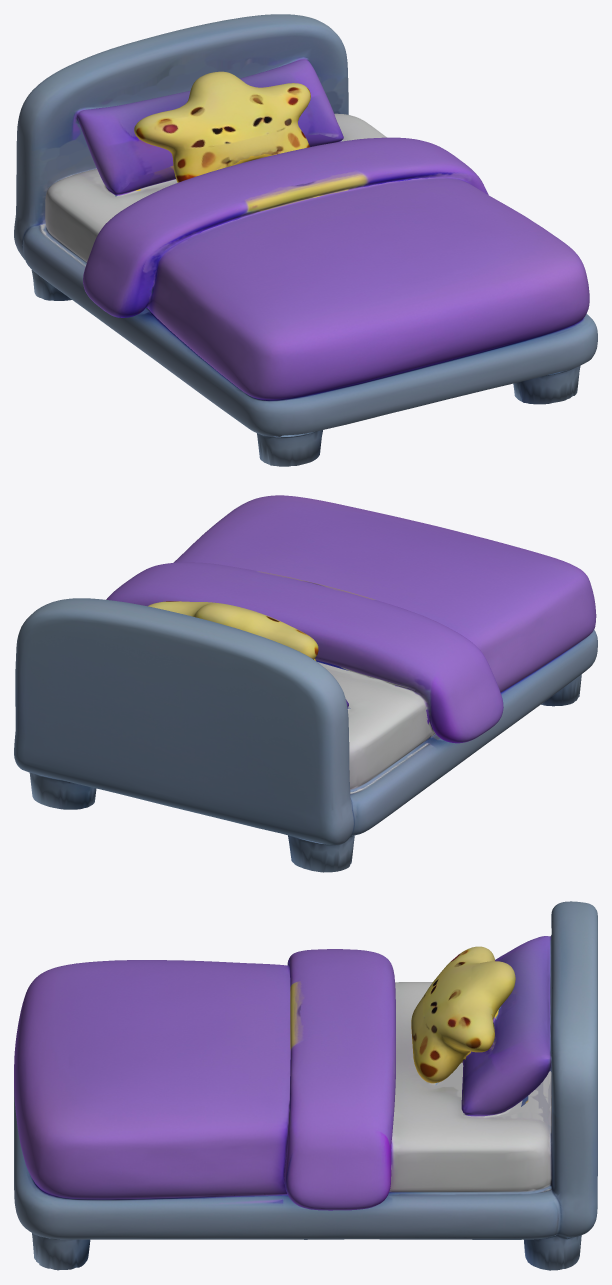
File: bed.glb
The picture shows the model from 3 angles, top to bottom: view 1: azimuth 30°, elevation 25°; view 2: azimuth 150°, elevation 25°; view 3: azimuth 270°, elevation 25°; orthographic projection. The views are drawn at different scales.
Visible parts, largest first — view 1: patrick-reference-bed; view 2: patrick-reference-bed; view 3: patrick-reference-bed.
Boxes of the visible parts, <box> form: patrick-reference-bed: <box>14,14,597,466</box>; patrick-reference-bed: <box>14,495,597,872</box>; patrick-reference-bed: <box>14,901,597,1270</box>.
Bounding box in the file's own units: 1.63 × 0.88 × 1.98.
Materials: 1 (1 with a texture image).
